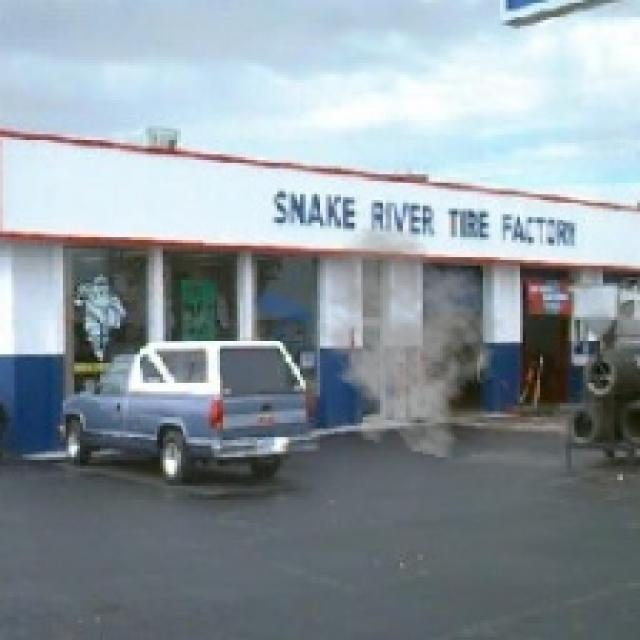Smoke: (306, 223, 506, 460)
